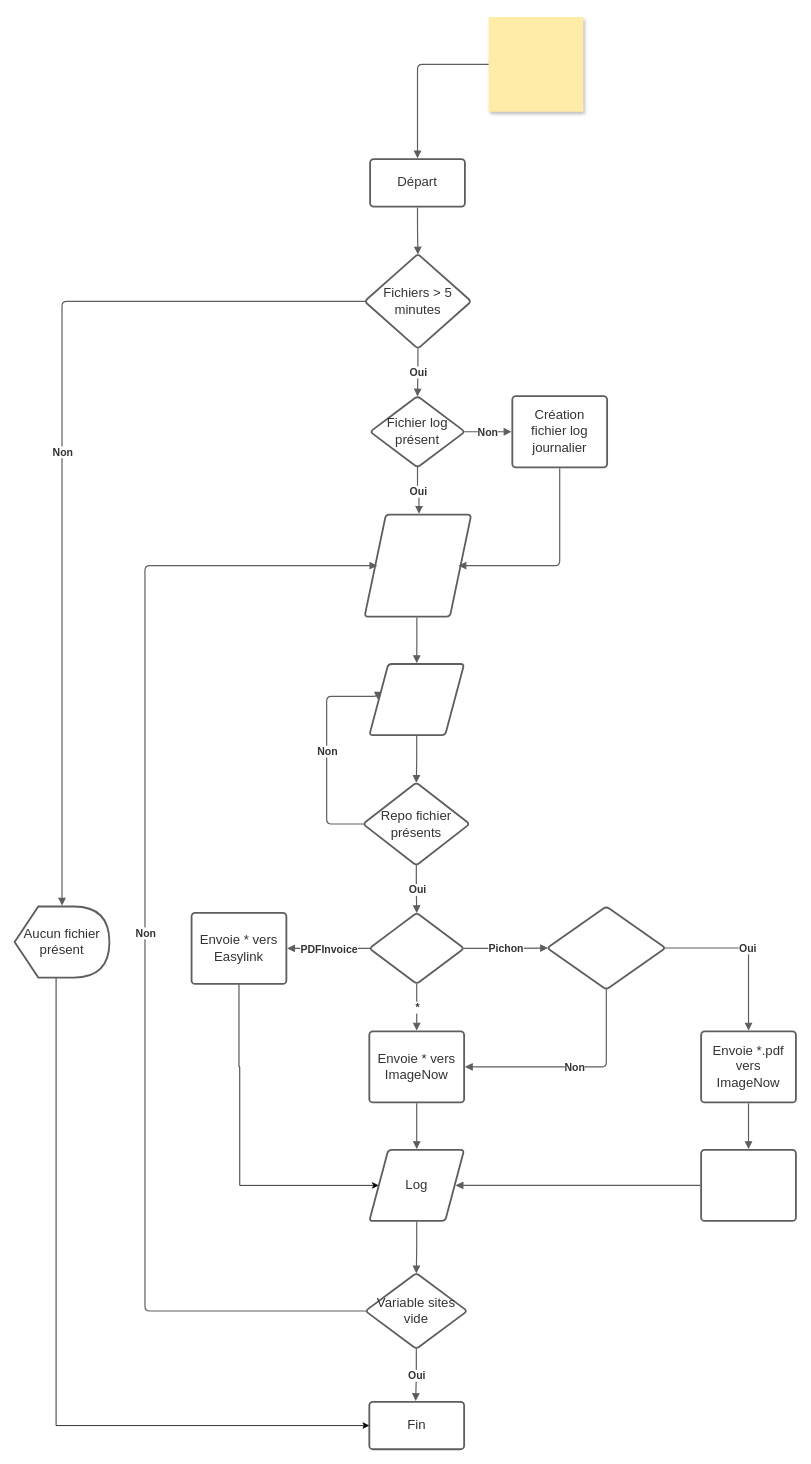
This 811x1464 diagram has some shape labels left out. The centre of each missing label's shape, as x and y in pixels:
Case site: point (416, 948)
Cron toute les 5 minutes: point (536, 65)
Envoie *.idx vers ImageNow: point (748, 1185)
Repo = customer finance: point (606, 947)
Variable contenant les répertoires: point (416, 699)
Variable contenant les site avec fichiers présents: point (417, 565)
